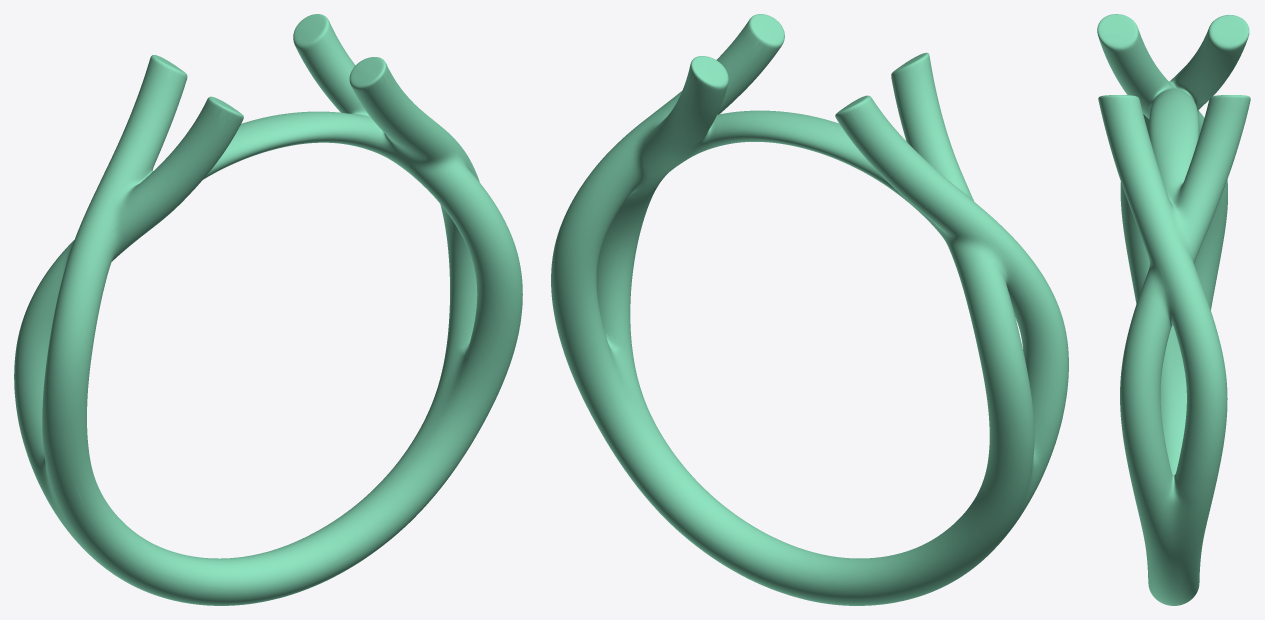
3 views of the same model, side by side, from view 1: azimuth 30°, elevation 25°; view 2: azimuth 150°, elevation 25°; view 3: azimuth 270°, elevation 25° (orthographic). The views are drawn at different scales.
Parts seen in each view (by area): view 1: Metal02; view 2: Metal02; view 3: Metal02.
Boxes of the visible parts, x1=… form: Metal02: x1=14, y1=14, x2=522, y2=605; Metal02: x1=551, y1=14, x2=1068, y2=605; Metal02: x1=1097, y1=14, x2=1250, y2=605.
Size of the model in its own units: 21.17 by 22.79 by 6.02.
